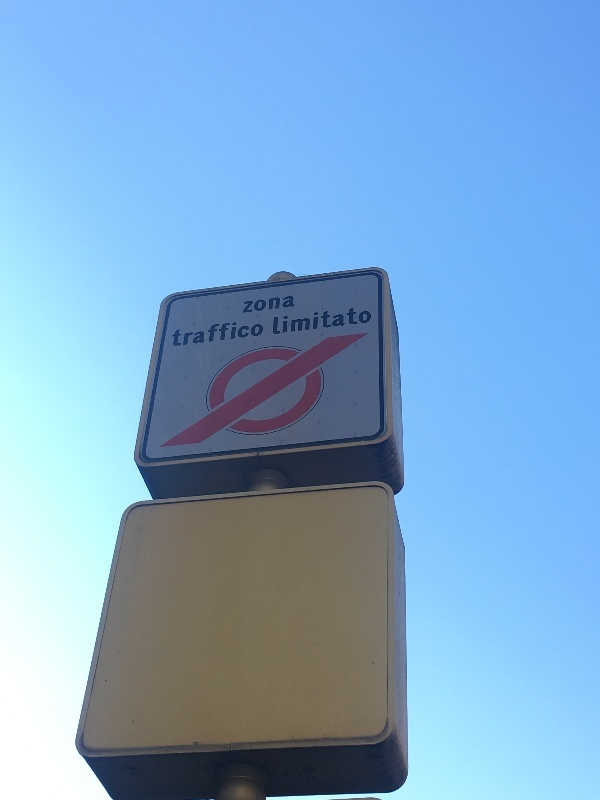text: (289, 305, 304, 336), (305, 305, 320, 336), (321, 305, 336, 336), (337, 305, 352, 336), (353, 305, 368, 336), (274, 305, 288, 336), (177, 321, 192, 347), (193, 321, 208, 347), (209, 321, 224, 347), (225, 321, 240, 347), (241, 321, 256, 347), (257, 295, 272, 314), (273, 295, 288, 314), (245, 295, 256, 314), (257, 321, 264, 347), (289, 295, 295, 314), (369, 305, 371, 336), (174, 321, 176, 347)
